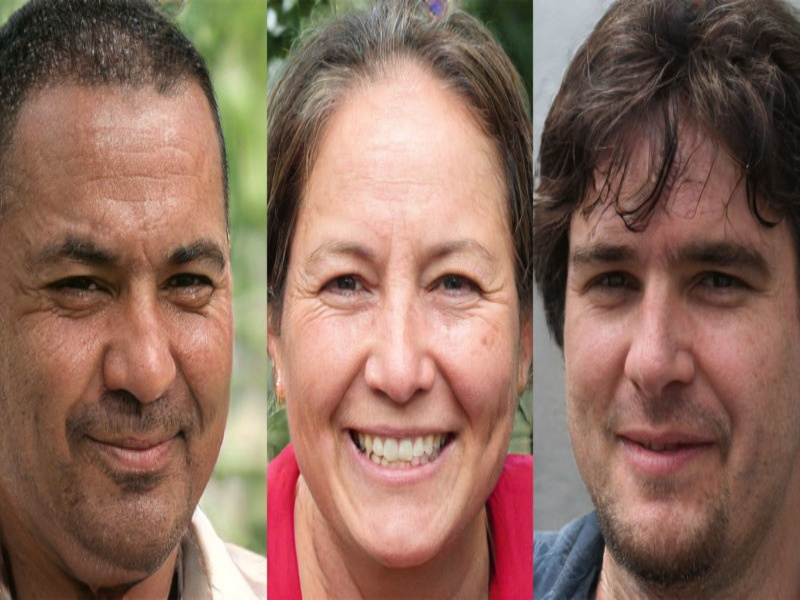face: (35, 238, 230, 491), (309, 235, 496, 485), (575, 245, 771, 480)
